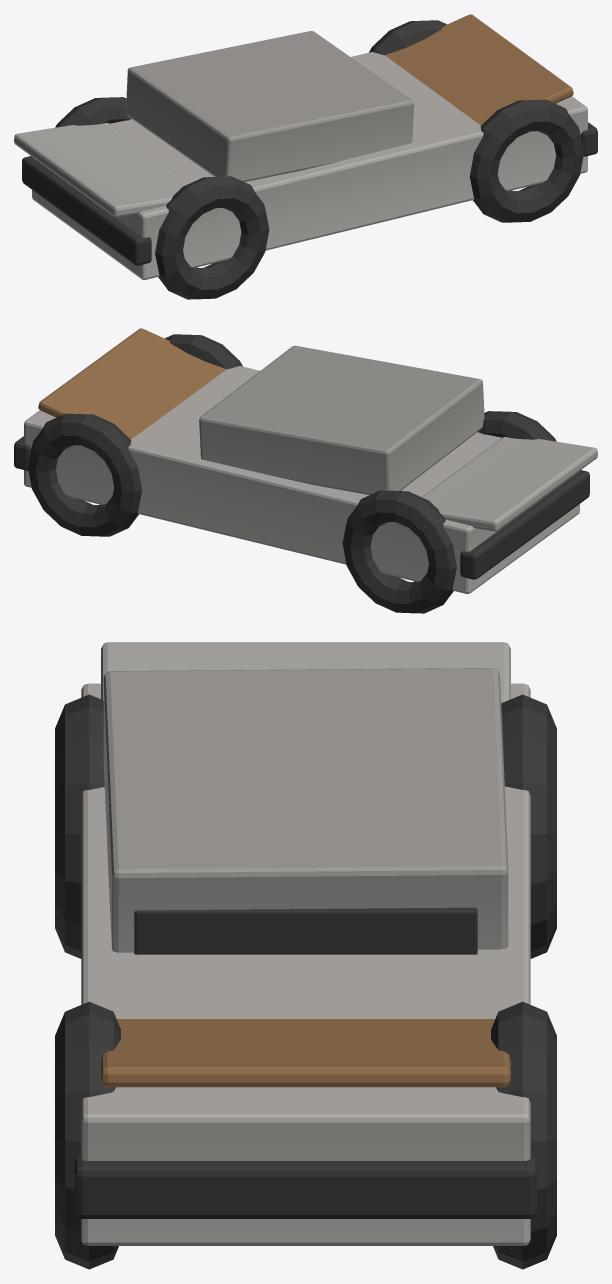
The model's file is car.glb.
3 renders of one model, top to bottom at view 1: azimuth 30°, elevation 25°; view 2: azimuth 150°, elevation 25°; view 3: azimuth 270°, elevation 25°, orthographic. The views are drawn at different scales.
Visible parts, largest first — view 1: car_cabin, car_chassis, car_hood, car_trunk, car_wheel_1, car_wheel_3, car_bumper_rear, car_wheel_2, car_wheel_0, car_bumper_front; view 2: car_cabin, car_chassis, car_hood, car_trunk, car_wheel_0, car_wheel_2, car_bumper_rear, car_wheel_3, car_wheel_1, car_bumper_front; view 3: car_cabin, car_chassis, car_hood, car_bumper_front, car_interior, car_trunk, car_wheel_0, car_wheel_1, car_wheel_2, car_wheel_3.
Part boxes in pixels (x1,y1,x2,y2): car_cabin: (126, 31, 413, 181); car_chassis: (32, 52, 587, 279); car_hood: (385, 14, 573, 125); car_trunk: (14, 122, 190, 217); car_wheel_1: (469, 99, 583, 222); car_wheel_3: (155, 176, 269, 299); car_bumper_rear: (22, 156, 151, 265); car_wheel_2: (55, 97, 131, 127); car_wheel_0: (369, 20, 446, 55); car_bumper_front: (581, 122, 597, 156); car_cabin: (199, 345, 484, 494); car_chassis: (24, 366, 579, 593); car_hood: (38, 328, 226, 439); car_trunk: (421, 436, 597, 531); car_wheel_0: (28, 413, 142, 536); car_wheel_2: (342, 490, 456, 613); car_bumper_rear: (460, 470, 589, 579); car_wheel_3: (478, 411, 556, 441); car_wheel_1: (165, 334, 242, 369); car_bumper_front: (14, 436, 30, 470); car_cabin: (103, 668, 508, 952); car_chassis: (81, 683, 530, 1245); car_hood: (101, 1019, 510, 1087); car_bumper_front: (74, 1156, 537, 1218); car_interior: (134, 907, 477, 954); car_trunk: (101, 642, 510, 702); car_wheel_0: (491, 1001, 556, 1269); car_wheel_1: (55, 1001, 120, 1269); car_wheel_2: (501, 694, 556, 958); car_wheel_3: (55, 694, 104, 958).
Bounding box in the file's own units: 4.18 × 1.27 × 1.9.
